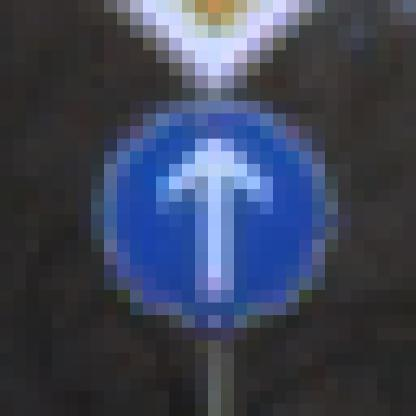AheadOnly: (79, 77, 352, 354)
